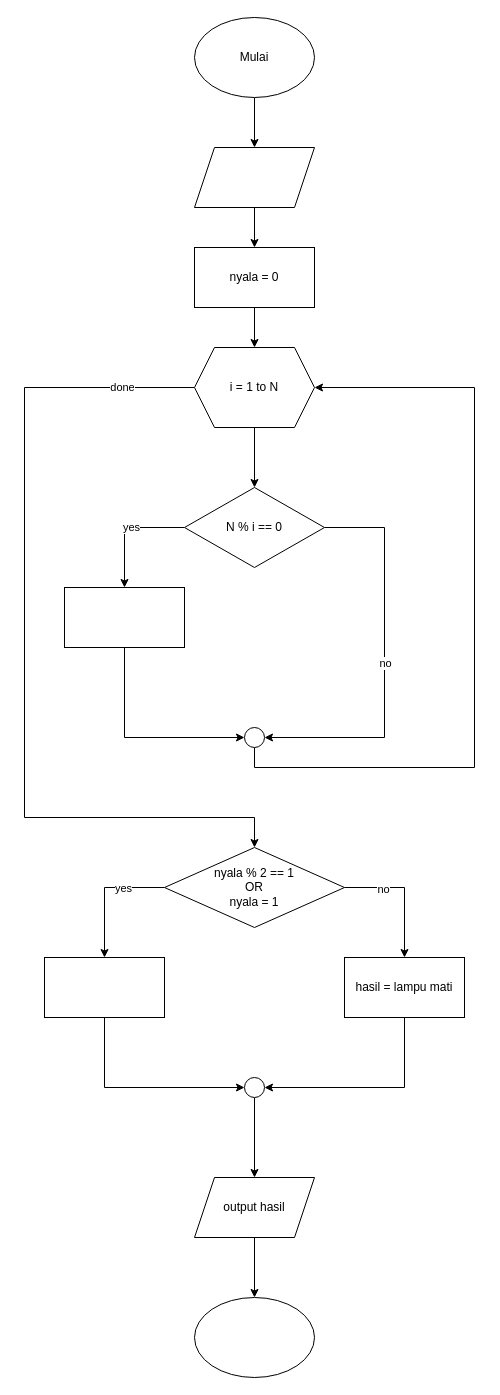
This 500x1395 diagram has some shape labels left out. The shapes that lost their labels are listed below. From the top down, each one's centre as x and y in pixels, then its label:
At [254,177]: "input N".
At [124,617]: "nyala = nyala + 1".
At [104,987]: "hasil = lampu menyala".
At [254,1337]: "Selesai".
